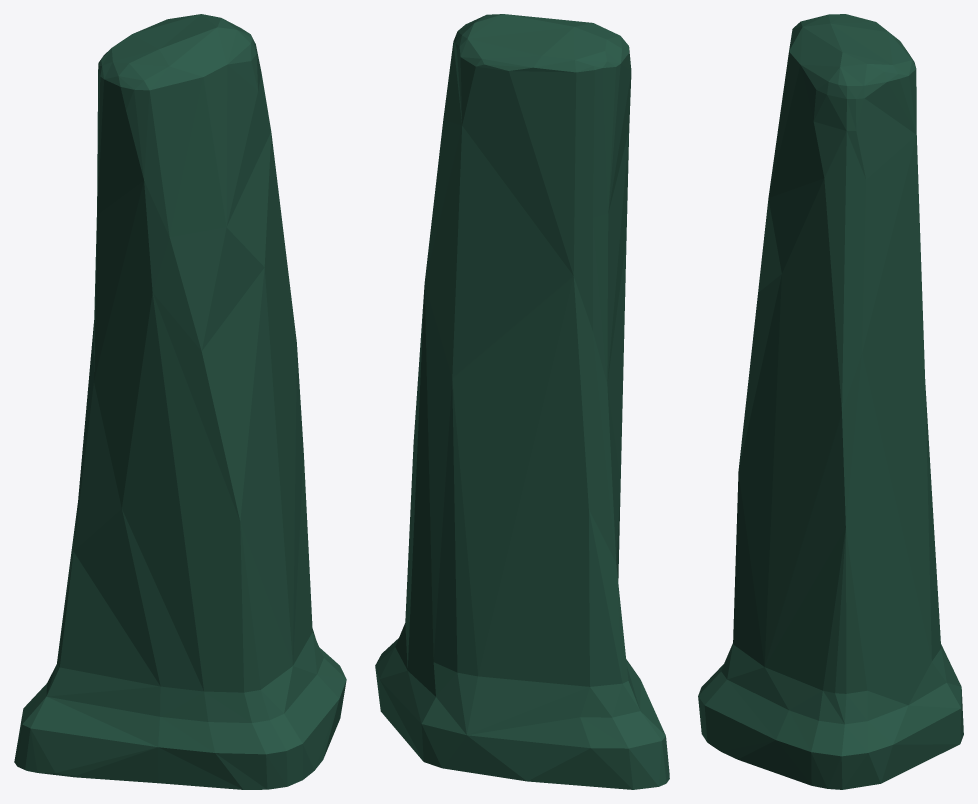
Rendered from Rock04.FBX.
3 views of the same model, side by side, from view 1: azimuth 30°, elevation 25°; view 2: azimuth 150°, elevation 25°; view 3: azimuth 270°, elevation 25° (orthographic). The views are drawn at different scales.
Visible parts, largest first — view 1: Capsule002; view 2: Capsule002; view 3: Capsule002.
Part boxes in pixels (x1,y1,x2,y2): Capsule002: (14, 14, 346, 789); Capsule002: (375, 14, 669, 789); Capsule002: (698, 14, 963, 789).
Size of the model in its own units: 109 by 245 by 85.45.
